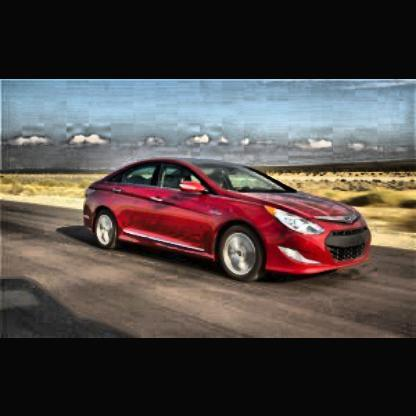Hyundai Sonata Hybrid Sedan 2012: (85, 159, 373, 283)
